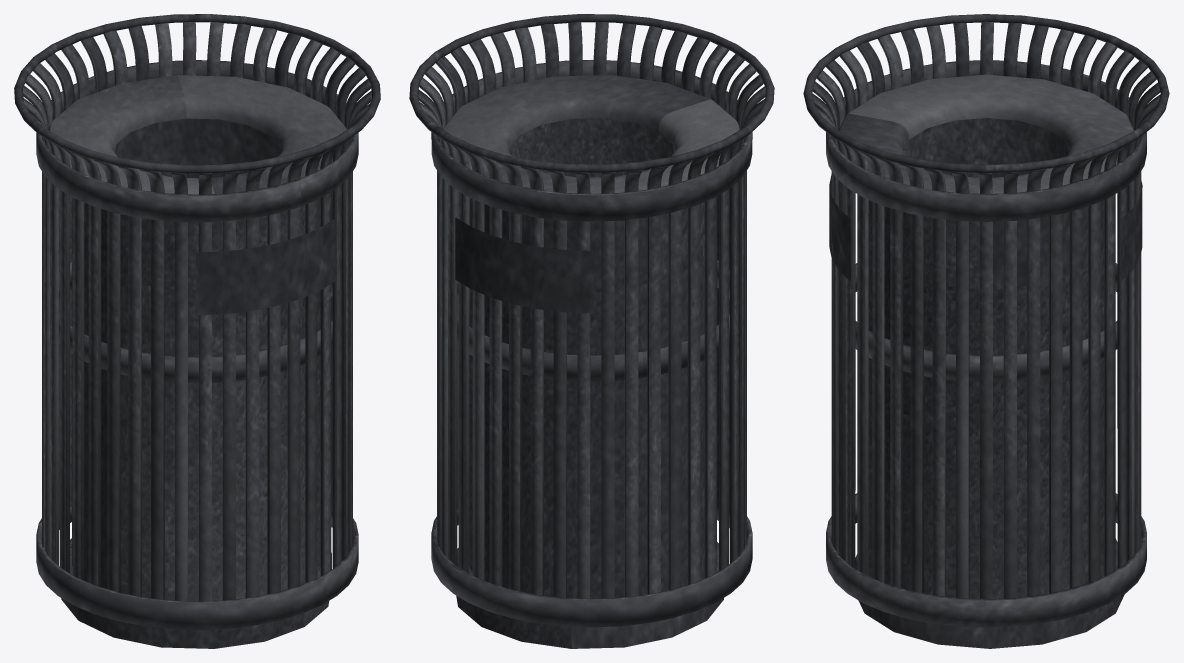
The picture shows the model from 3 angles, left to right: view 1: azimuth 30°, elevation 25°; view 2: azimuth 150°, elevation 25°; view 3: azimuth 270°, elevation 25°; orthographic projection.
Visible parts, largest first — view 1: body_low, bin_low, lid_low, ring1_low, ring3_low, sign_low, topCircle_low, base_low, ring2_low; view 2: body_low, bin_low, lid_low, ring1_low, ring3_low, sign_low, topCircle_low, base_low, ring2_low; view 3: body_low, bin_low, lid_low, ring1_low, ring3_low, topCircle_low, base_low, ring2_low, sign_low.
Boxes of the visible parts, <box> form: body_low: <box>23,22,371,601</box>; bin_low: <box>72,118,320,601</box>; lid_low: <box>48,75,346,194</box>; ring1_low: <box>36,60,358,222</box>; ring3_low: <box>36,506,358,629</box>; sign_low: <box>195,219,335,315</box>; topCircle_low: <box>14,14,380,173</box>; base_low: <box>61,538,331,648</box>; ring2_low: <box>59,261,332,383</box>; body_low: <box>418,21,765,598</box>; bin_low: <box>469,118,716,598</box>; lid_low: <box>443,75,740,193</box>; ring1_low: <box>431,60,752,221</box>; ring3_low: <box>431,504,752,627</box>; sign_low: <box>455,217,594,313</box>; topCircle_low: <box>409,14,774,172</box>; base_low: <box>456,542,723,648</box>; ring2_low: <box>457,260,729,381</box>; body_low: <box>812,21,1160,599</box>; bin_low: <box>868,118,1104,598</box>; lid_low: <box>839,74,1133,193</box>; ring1_low: <box>826,60,1146,221</box>; ring3_low: <box>826,493,1146,627</box>; topCircle_low: <box>803,14,1169,173</box>; base_low: <box>855,538,1124,648</box>; ring2_low: <box>855,263,1117,381</box>; sign_low: <box>829,174,1142,281</box>.
Bounding box in the file's own units: 0.7094 × 1.07 × 0.7094.
